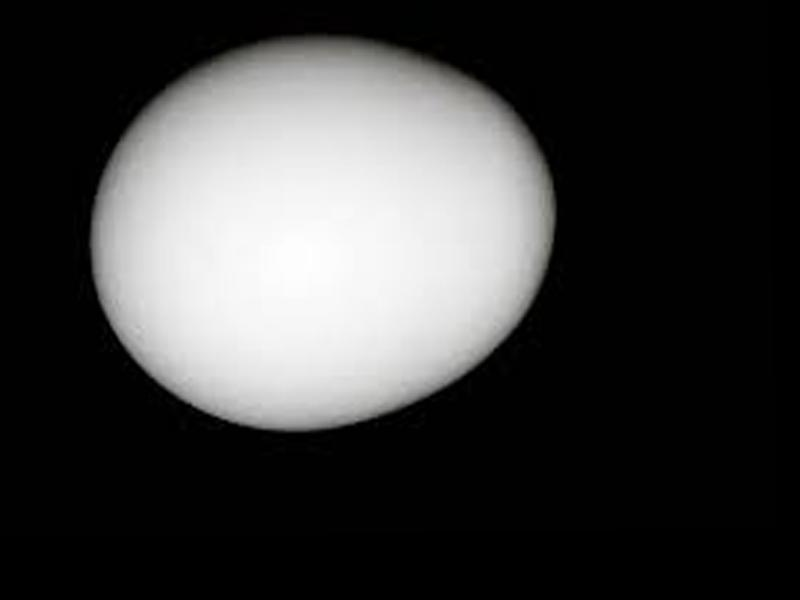Eggs: (85, 42, 552, 430)
